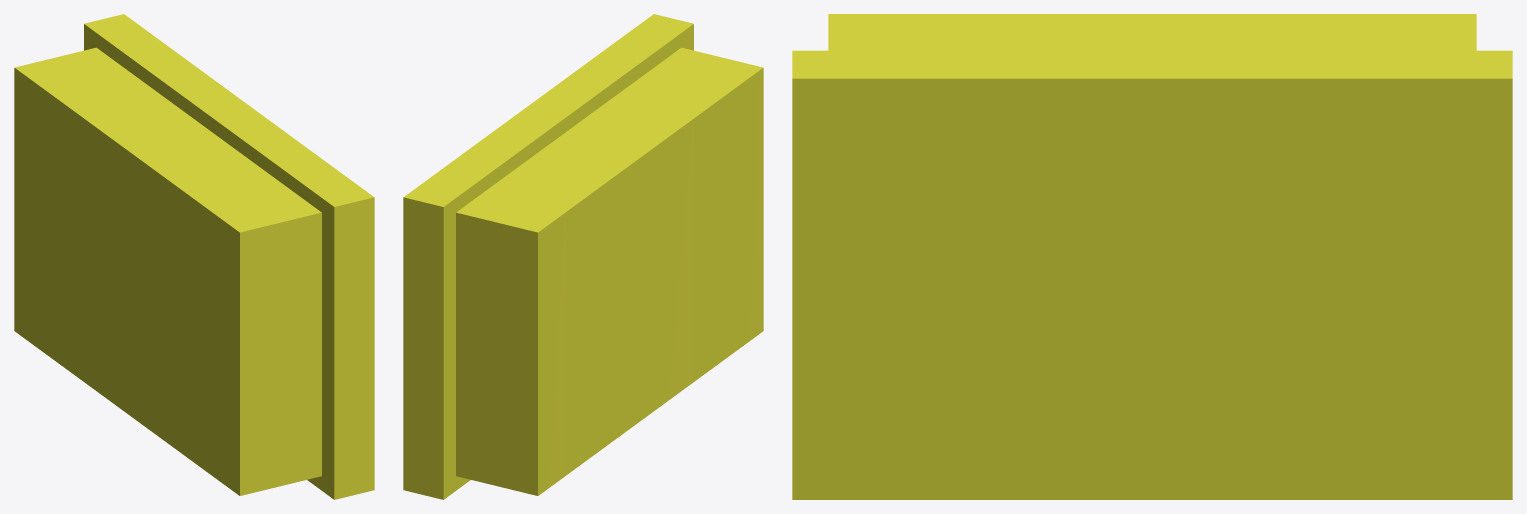
File: electrode-negative.dae
3 renders of one model, left to right at view 1: azimuth 30°, elevation 25°; view 2: azimuth 150°, elevation 25°; view 3: azimuth 270°, elevation 25°, orthographic. The views are drawn at different scales.
Visible parts, largest first — view 1: electrode-negative; view 2: electrode-negative; view 3: electrode-negative.
Part boxes in pixels (x1=…): electrode-negative: x1=14, y1=14, x2=374, y2=499; electrode-negative: x1=403, y1=14, x2=763, y2=499; electrode-negative: x1=792, y1=14, x2=1512, y2=499.
Bounding box in the file's own units: 0.0262 × 0.093 × 0.06.
